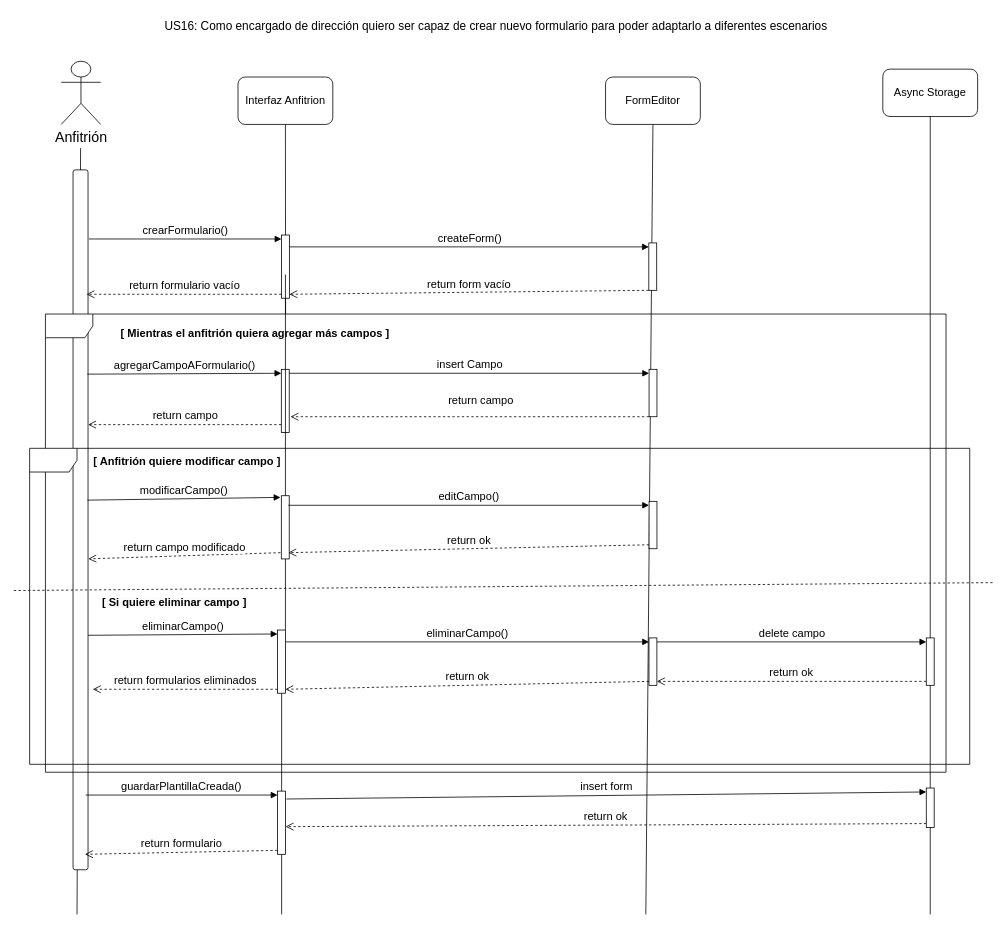
Image size: 1008x929. Some labels were removed from this diagram. The box of each missing label's shape, as (x1, y1, x2, y2) in pixels:
ALT: (29, 448, 970, 764)
Loop: (45, 313, 946, 772)
